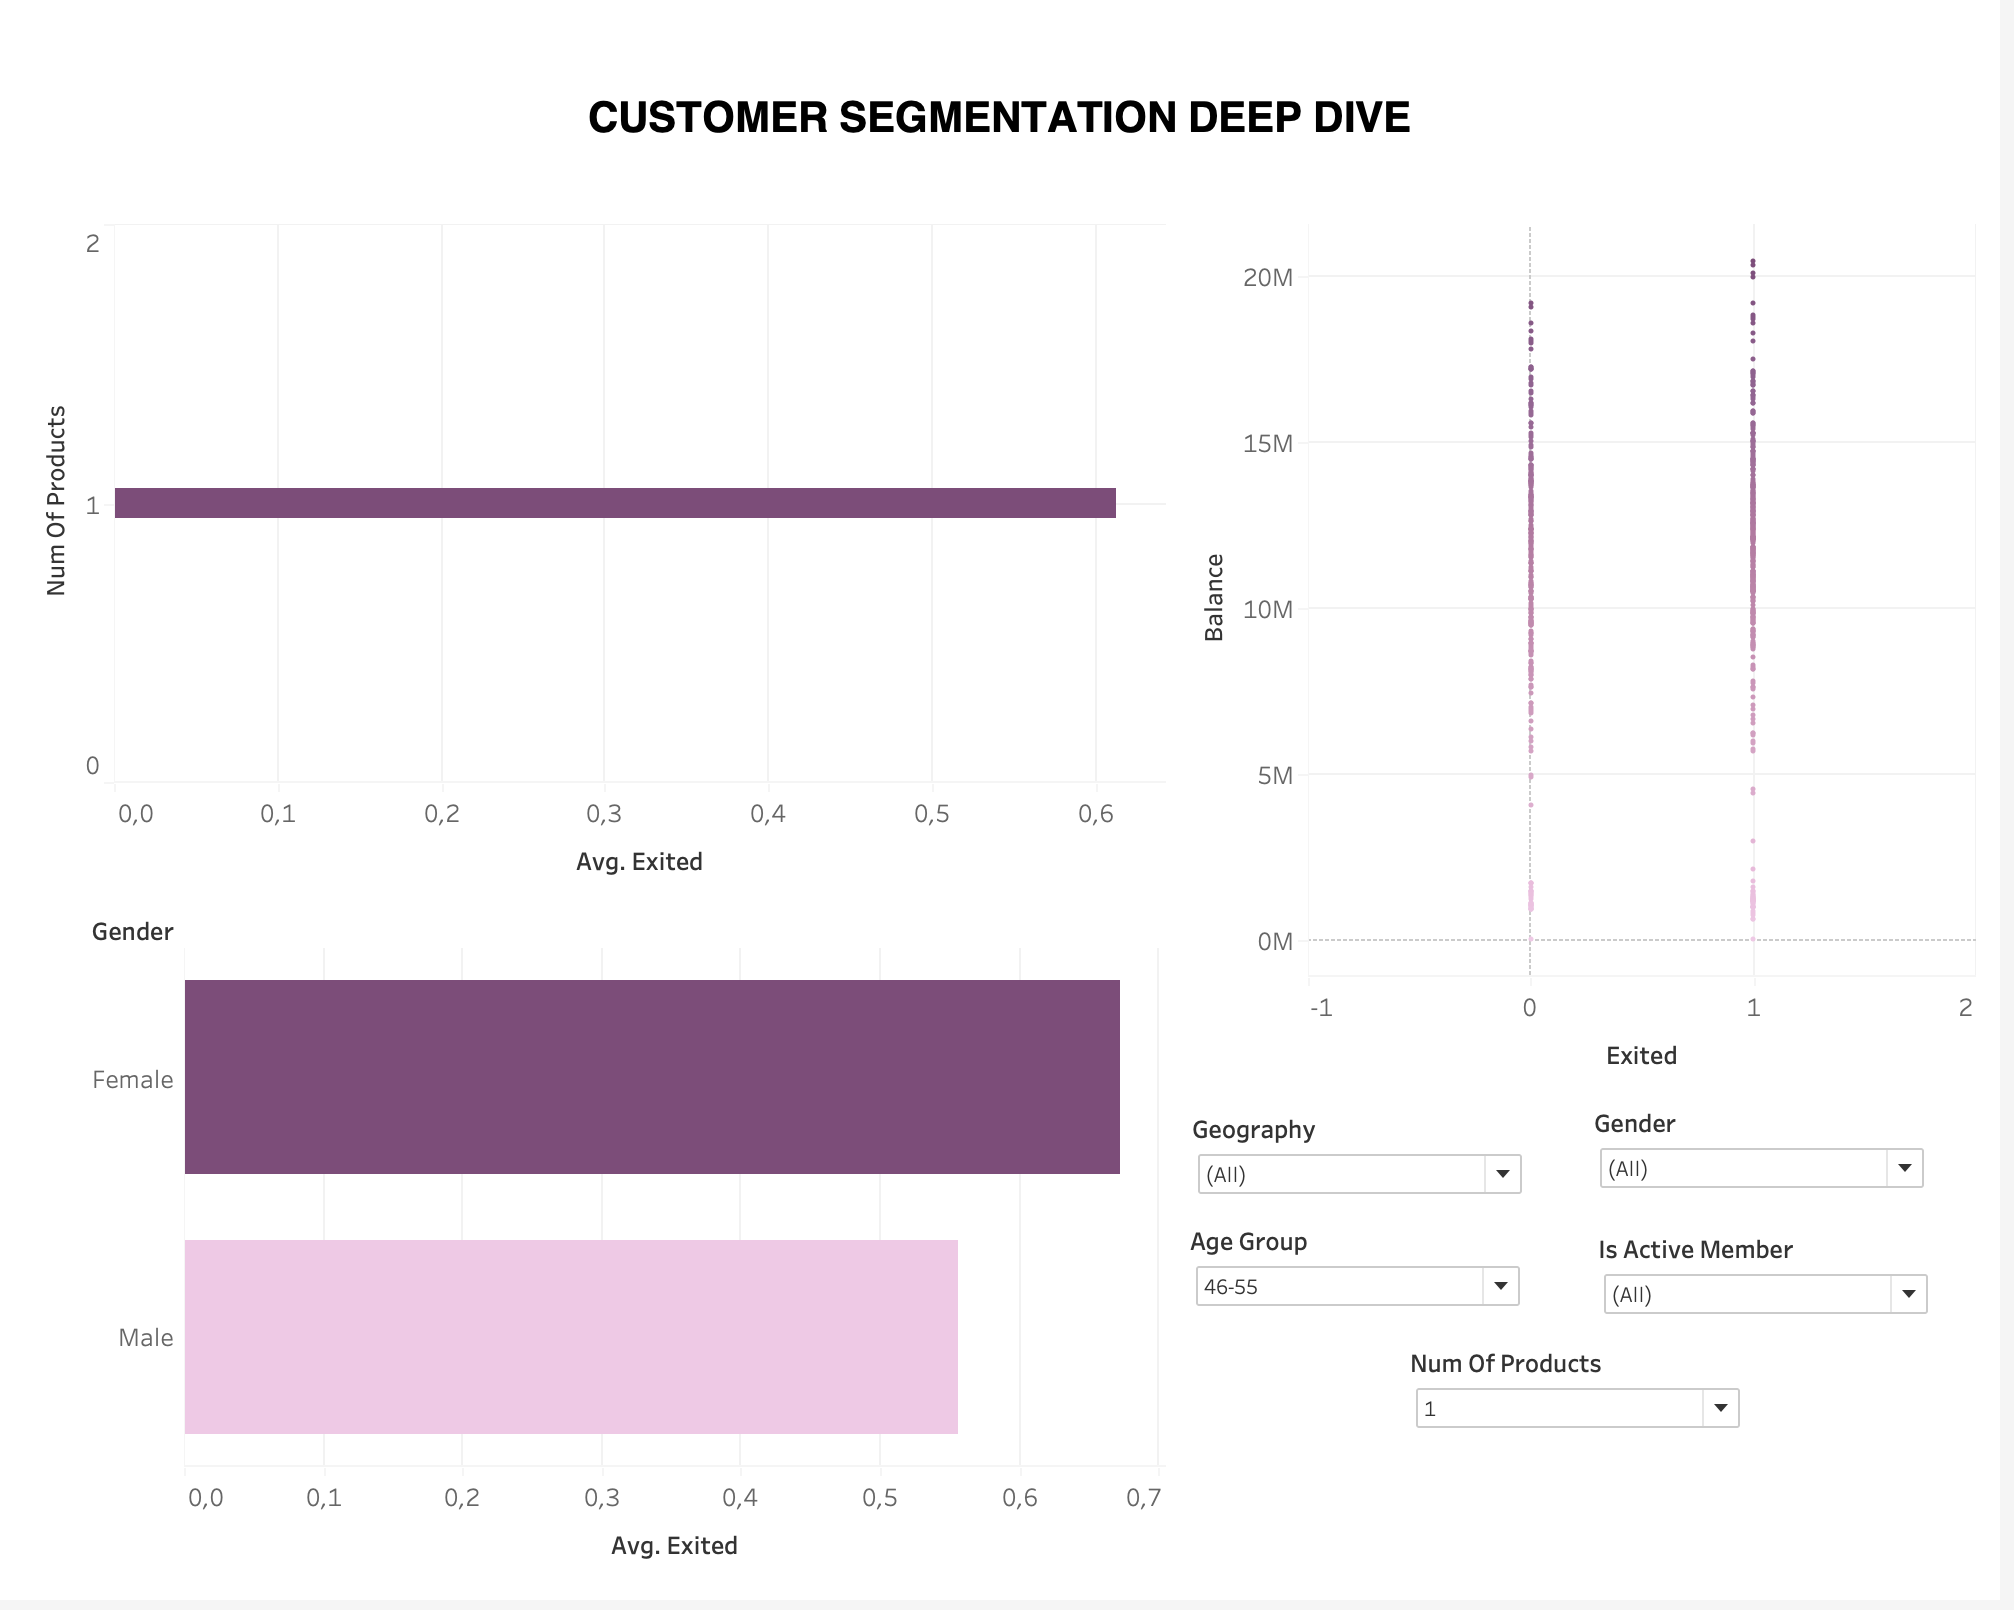

Layout of this report page (visuals, bound fields, positions):
{"tool":"tableau","page":{"name":"Dashboard 2","canvas":[1000,800],"ordinal":1},"visuals":[{"type":"text","box":[8,8,984,100]},{"type":"worksheet","title":"Numofproduct","mark":"Bar","rows":["NumOfProducts"],"cols":["Exited"],"box":[8,108,579,342]},{"type":"worksheet","title":"Balance","mark":"Circle","rows":["Balance"],"cols":["Exited"],"box":[587,108,405,439]},{"type":"worksheet","title":"Gender","mark":"Automatic","rows":["Gender"],"cols":["Exited"],"box":[8,450,579,342]},{"type":"filter","title":"Balance","param":"[federated.087jwrd1yr68231c5jlmy1wc8400].[none:Gender:nk]","box":[797,553,168,89]},{"type":"filter","title":"Balance","param":"[federated.087jwrd1yr68231c5jlmy1wc8400].[none:Geography:nk]","box":[596,556,168,108]},{"type":"filter","title":"Balance","param":"[federated.087jwrd1yr68231c5jlmy1wc8400].[none:AgeGroup:nk]","box":[595,612,168,184]},{"type":"filter","title":"Balance","param":"[federated.087jwrd1yr68231c5jlmy1wc8400].[none:IsActiveMember:ok]","box":[799,616,168,89]},{"type":"filter","title":"Balance","param":"[federated.087jwrd1yr68231c5jlmy1wc8400].[none:NumOfProducts:ok]","box":[705,673,168,127]}]}

Visuals, with their boxes in screenshot pixels (x1, y1, x2, y2), scaled from the page's 1000x800 canvas onto the 2014x1610 screenshot:
text: <region>16, 16, 1998, 217</region>
"Numofproduct" worksheet (Bar marks): <region>16, 217, 1182, 906</region>
"Balance" worksheet (Circle marks): <region>1182, 217, 1998, 1101</region>
"Gender" worksheet: <region>16, 906, 1182, 1594</region>
"Balance" filter: <region>1605, 1113, 1944, 1292</region>
"Balance" filter: <region>1200, 1119, 1539, 1336</region>
"Balance" filter: <region>1198, 1232, 1537, 1602</region>
"Balance" filter: <region>1609, 1240, 1948, 1419</region>
"Balance" filter: <region>1420, 1354, 1758, 1609</region>
